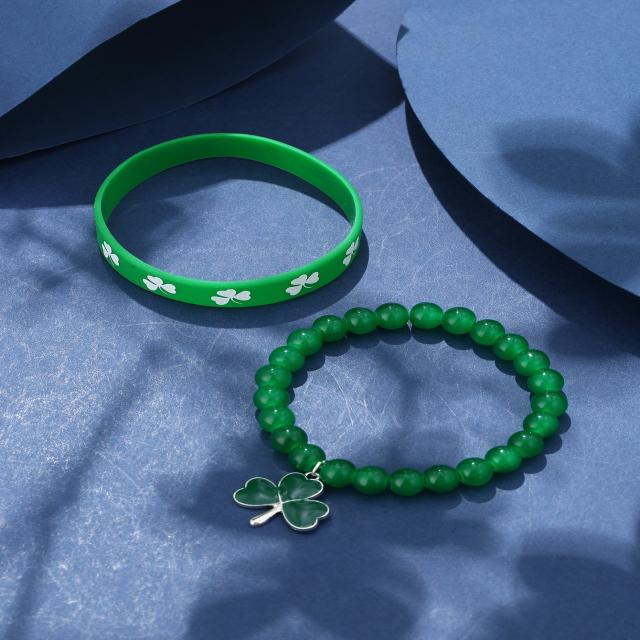bracelet: (225, 288, 640, 566), (54, 83, 395, 301)
